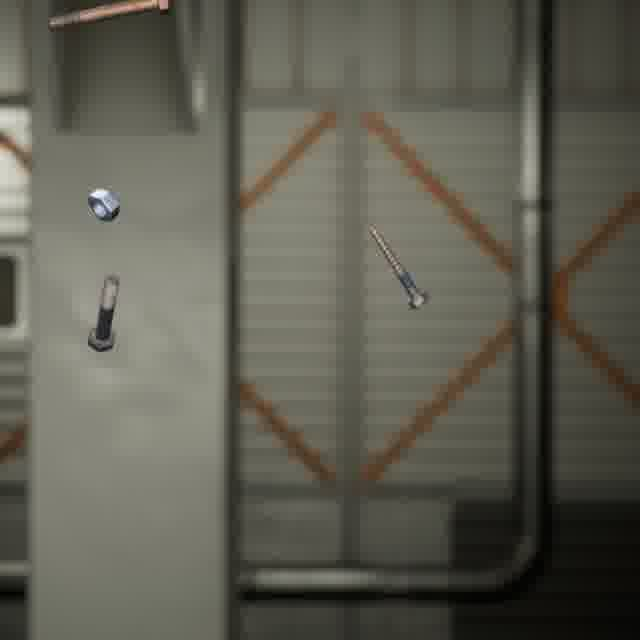bolt: (363, 219, 434, 313), (43, 0, 174, 35), (83, 271, 123, 356)
nut: (83, 184, 124, 226)
